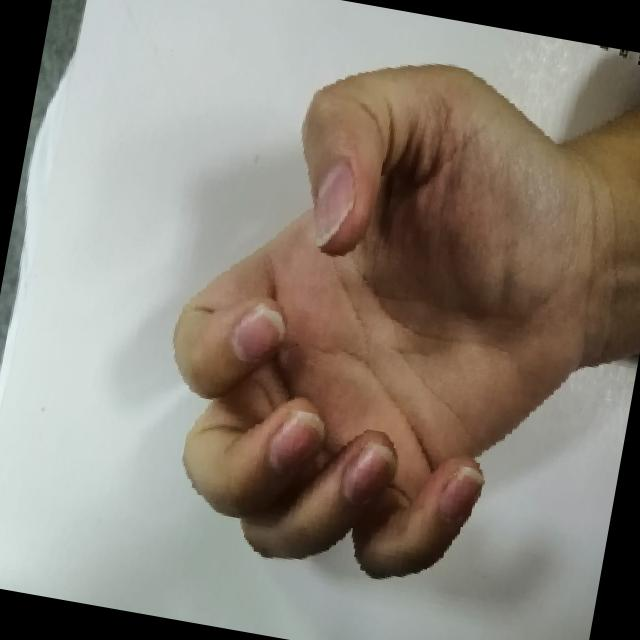Nail: (266, 407, 324, 473), (314, 161, 354, 247), (232, 301, 285, 362), (342, 441, 396, 499), (439, 464, 482, 518)
